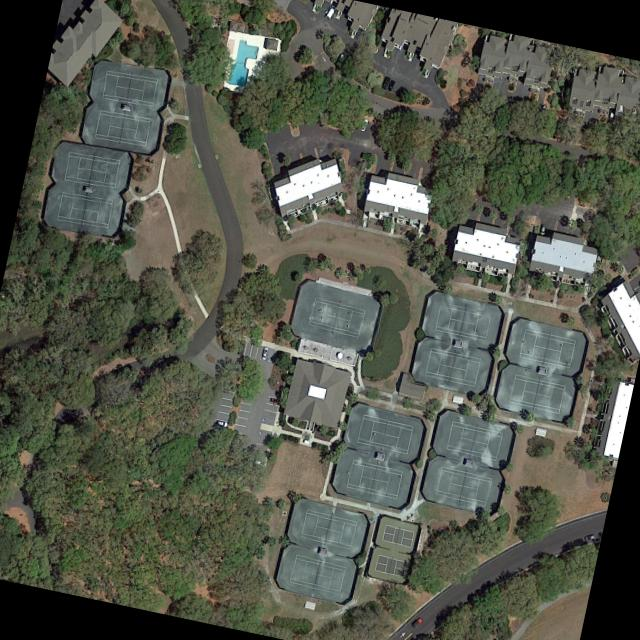small-vehicle: (380, 76, 390, 90), (358, 118, 367, 132), (411, 617, 422, 628), (386, 79, 395, 92), (215, 419, 227, 428), (260, 346, 267, 360), (583, 534, 594, 542), (538, 224, 545, 235)
